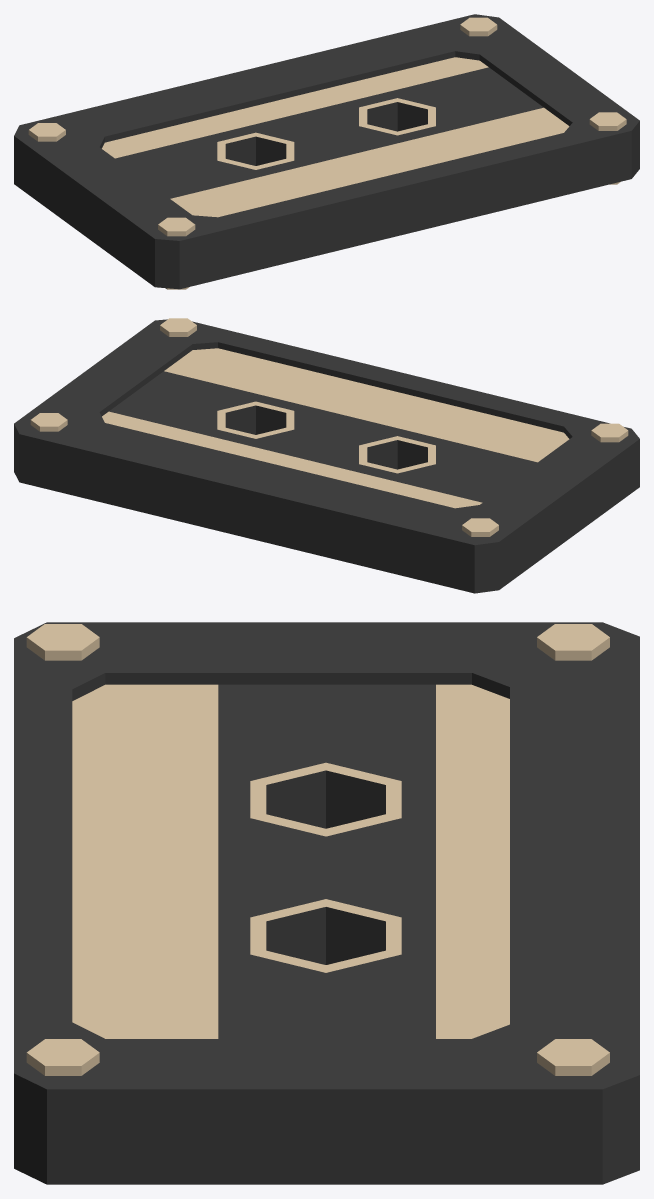
The model's file is Casette_01.fbx.
3 renders of one model, top to bottom at view 1: azimuth 30°, elevation 25°; view 2: azimuth 150°, elevation 25°; view 3: azimuth 270°, elevation 25°, orthographic. The views are drawn at different scales.
Parts seen in each view (by area): view 1: Casette_01; view 2: Casette_01; view 3: Casette_01.
Boxes of the visible parts, bbox=[...] form: Casette_01: bbox=[14, 14, 639, 289]; Casette_01: bbox=[14, 318, 639, 593]; Casette_01: bbox=[14, 622, 639, 1184].
Bounding box in the file's own units: 0.2084 × 0.024 × 0.118.
